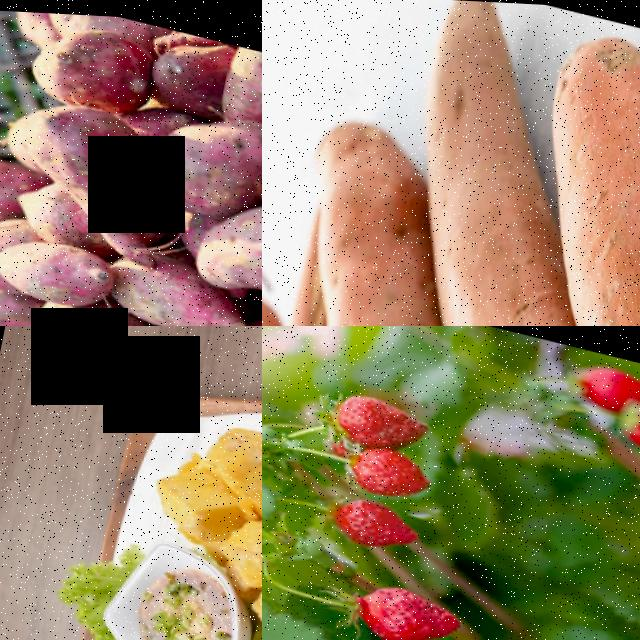strawberry: (328, 384, 435, 455), (355, 574, 466, 640), (325, 488, 423, 556), (347, 438, 437, 504), (616, 392, 640, 460)
sweet potato: (360, 0, 582, 326), (262, 108, 494, 326), (514, 4, 640, 326), (16, 93, 160, 212), (26, 11, 161, 116), (150, 95, 262, 202), (108, 252, 255, 326), (0, 225, 116, 313), (191, 184, 262, 309)
tofu: (147, 469, 231, 542), (216, 506, 262, 592), (208, 414, 262, 479)
